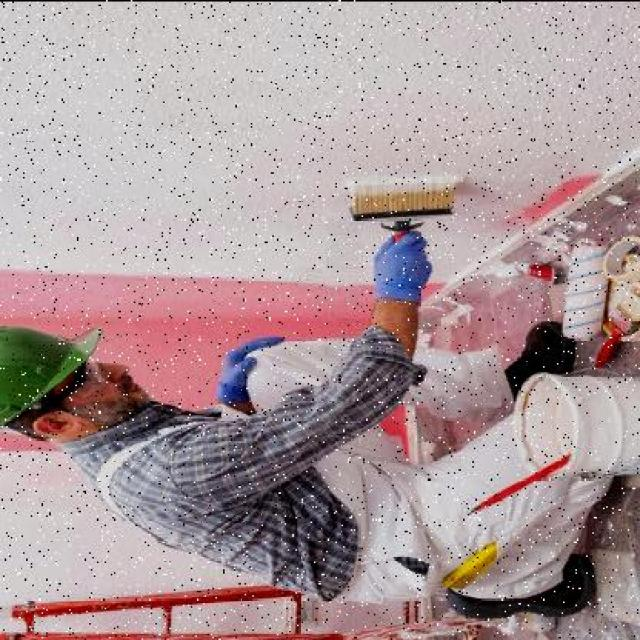shoes: (440, 553, 598, 616), (509, 316, 574, 409)
